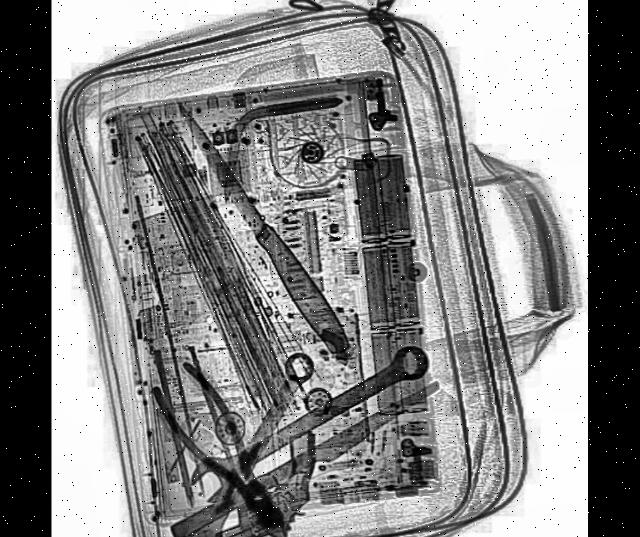Gun: (183, 423, 336, 537)
Knife: (168, 84, 356, 361), (172, 375, 443, 537)
Pliers: (147, 342, 304, 537)
Wrench: (185, 331, 438, 512), (180, 341, 322, 537)
